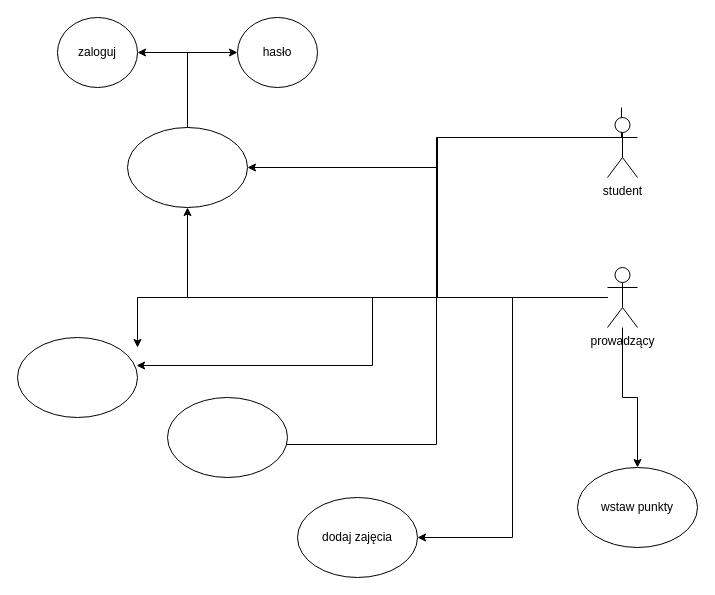
Some shapes in this 715 by 595 pixel diagram are drawn without their labels. Here are the shapes that lost their labels. From the top down, the box of each, then its label:
(126, 126, 248, 208): zapisz się na kurs
(16, 336, 138, 418): napisz wiadomość
(166, 396, 288, 478): wgraj zadanie
